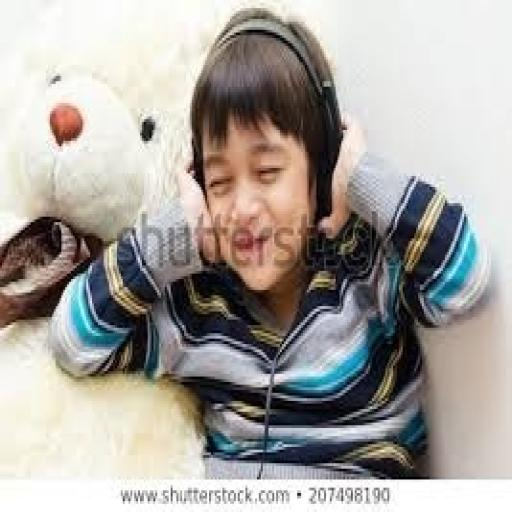listening_to_music: (46, 6, 493, 480)
